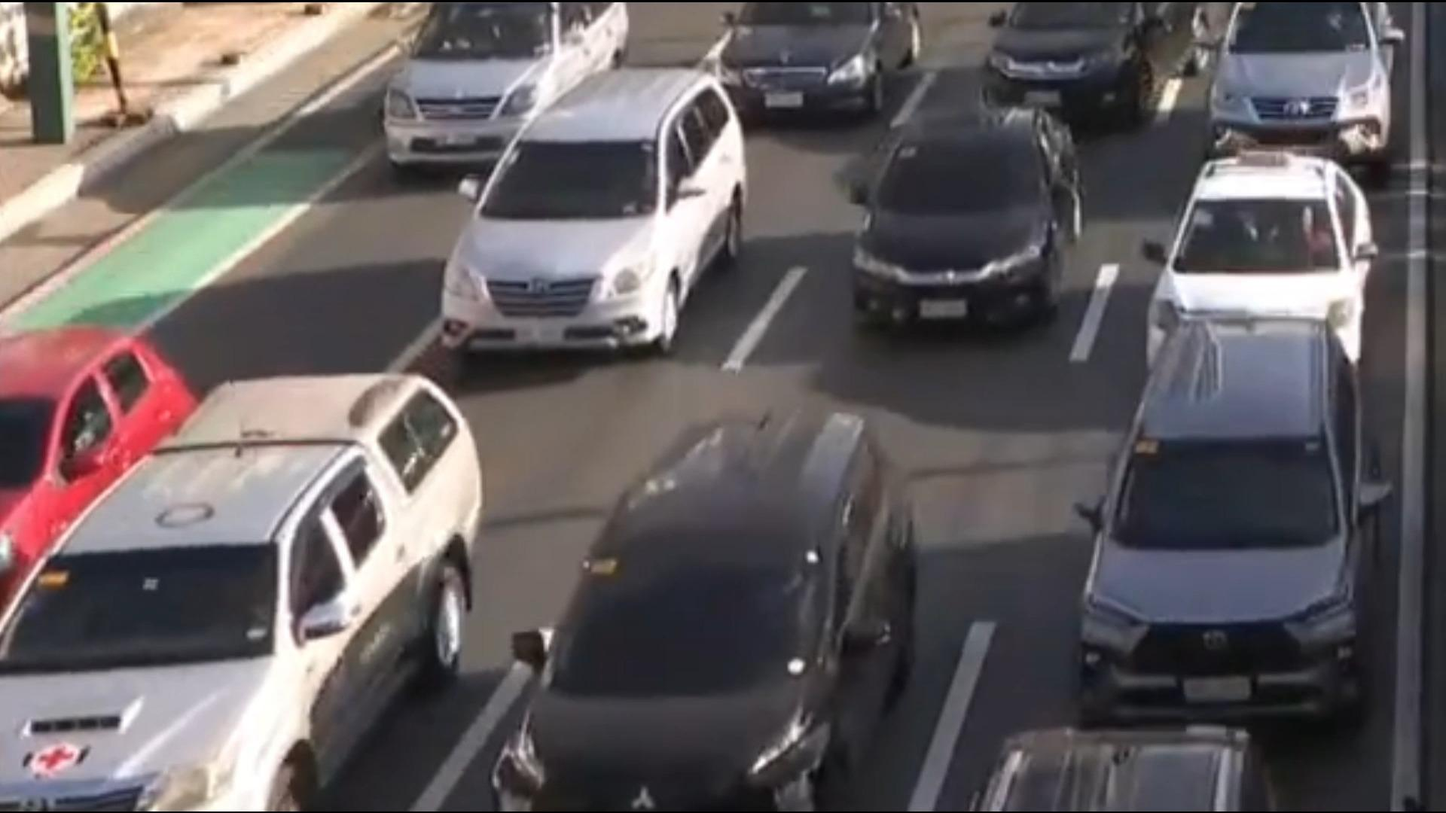SUV: (0, 373, 482, 813), (488, 411, 920, 813), (1066, 316, 1377, 723), (442, 68, 745, 356), (383, 0, 628, 162), (1196, 1, 1401, 159), (974, 2, 1199, 129)
Sedan: (0, 329, 199, 625), (851, 109, 1080, 330), (1144, 151, 1367, 373), (722, 1, 921, 113)
